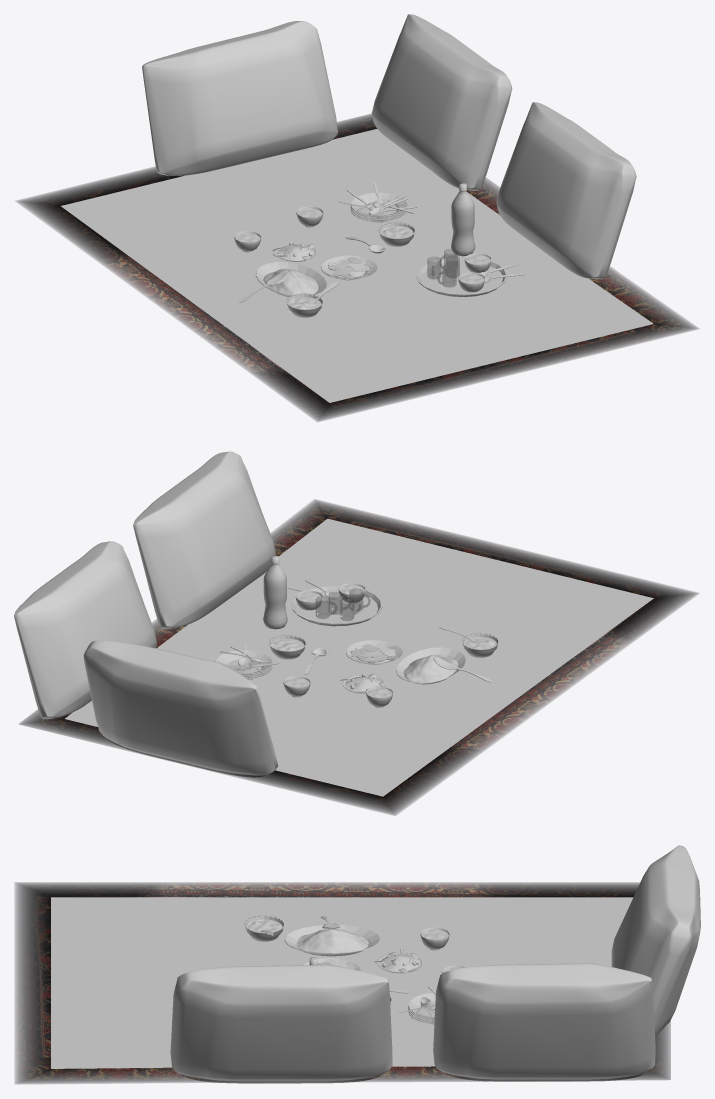
The picture shows the model from 3 angles, top to bottom: view 1: azimuth 30°, elevation 25°; view 2: azimuth 150°, elevation 25°; view 3: azimuth 270°, elevation 25°; orthographic projection. The views are drawn at different scales.
Parts seen in each view (by area): view 1: final, Farsh.002, Circle.021; view 2: final, Farsh.002, Circle.021; view 3: final, Farsh.002.
Boxes of the visible parts, x1,y1,x2,y2 form: final: (61, 14, 653, 402); Farsh.002: (16, 114, 698, 421); Circle.021: (427, 249, 459, 287); final: (14, 451, 653, 796); Farsh.002: (19, 499, 698, 815); Circle.021: (315, 589, 370, 620); final: (51, 845, 700, 1083); Farsh.002: (15, 882, 670, 1083).
Size of the model in its own units: 2.95 by 0.7865 by 3.99.
